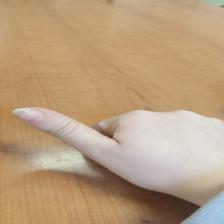five: (9, 102, 221, 186)
